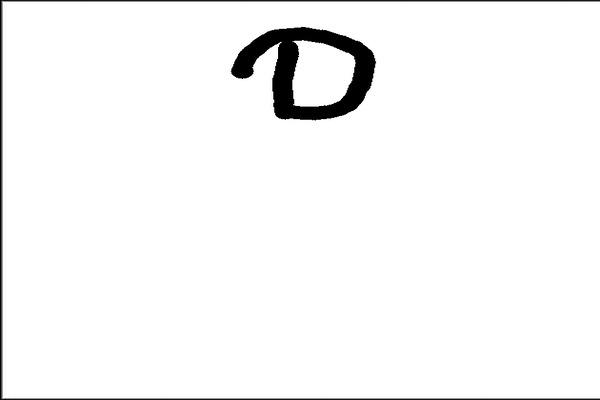D: (225, 20, 378, 129)
